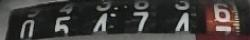digits: (91, 1, 116, 36), (212, 1, 237, 34), (19, 3, 40, 40), (131, 0, 152, 36), (172, 0, 194, 34), (53, 3, 72, 38)
